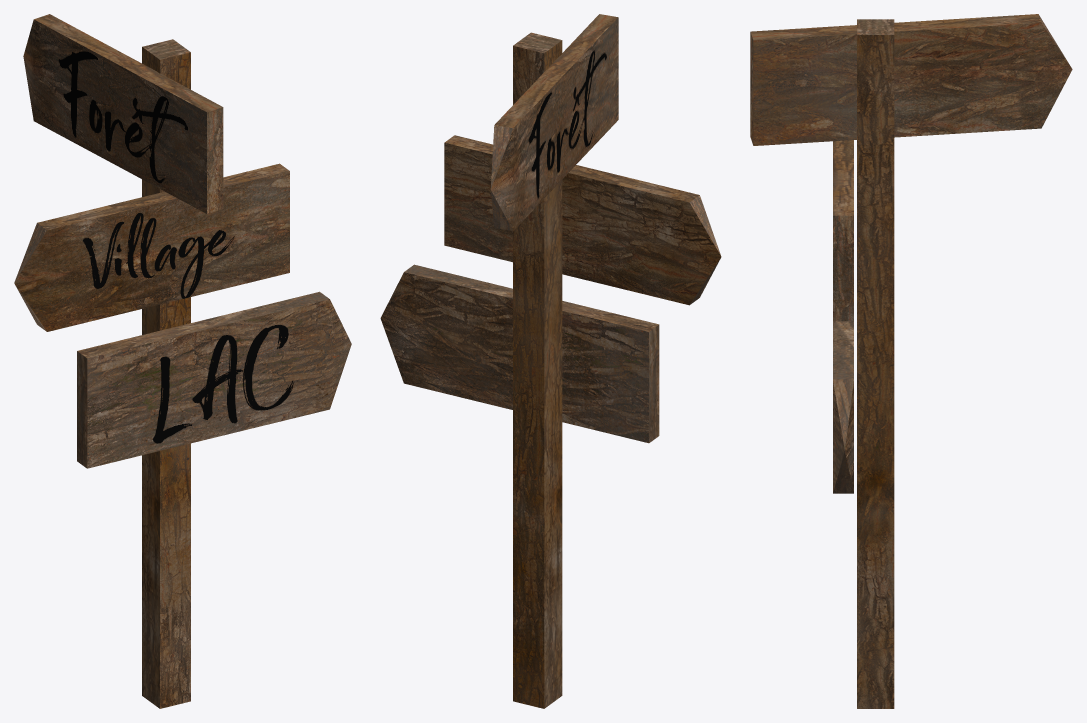
File: le_panneau-village.fbx
3 renders of one model, left to right at view 1: azimuth 30°, elevation 25°; view 2: azimuth 150°, elevation 25°; view 3: azimuth 270°, elevation 25°, orthographic. The views are drawn at different scales.
Parts seen in each view (by area): view 1: pCube5, pCube6, pCube8, pCube7; view 2: pCube7, pCube5, pCube6, pCube8; view 3: pCube8, pCube7, pCube6, pCube5.
Part boxes in pixels (box(x1,y1,x2,y2)): pCube5: box(77, 291, 351, 468); pCube6: box(14, 163, 289, 331); pCube8: box(23, 14, 223, 213); pCube7: box(142, 39, 190, 708); pCube7: box(513, 32, 562, 708); pCube5: box(380, 264, 659, 443); pCube6: box(444, 135, 721, 305); pCube8: box(490, 14, 618, 230); pCube8: box(750, 14, 1072, 145); pCube7: box(857, 19, 894, 708); pCube6: box(833, 140, 853, 321); pCube5: box(833, 321, 853, 493).
Size of the model in its own units: 2.18 by 4 by 1.73.
